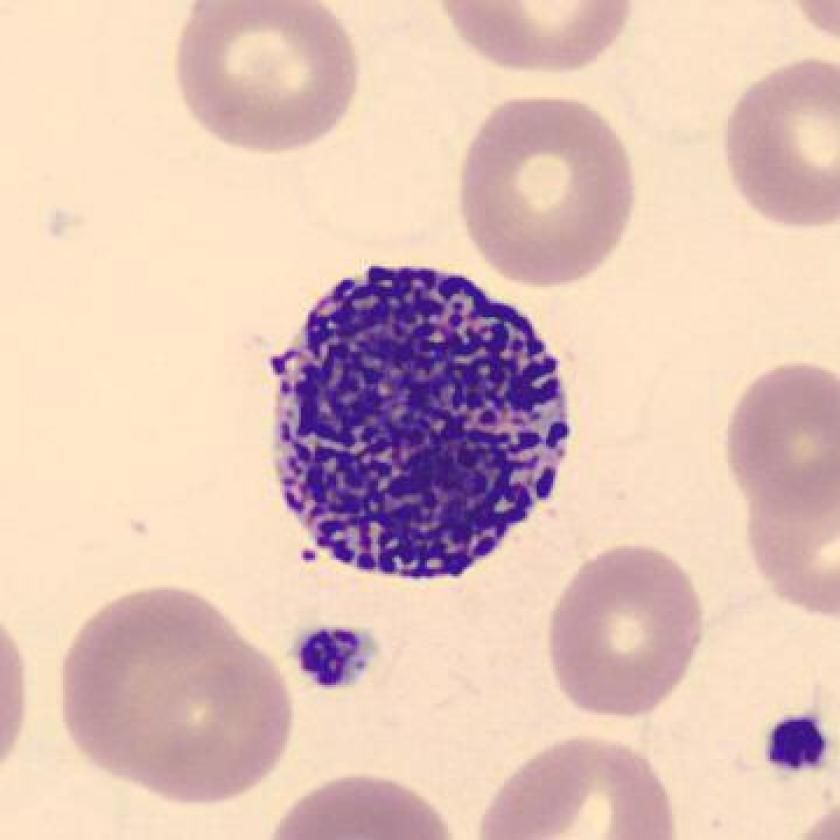basophil: (256, 249, 585, 584)
